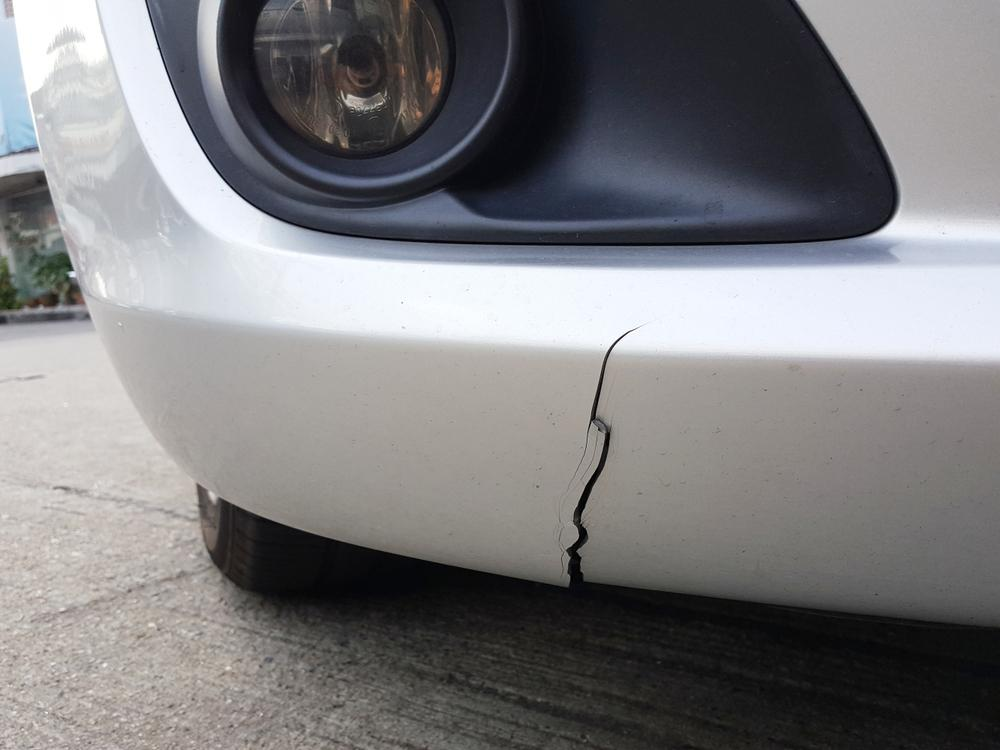crack: (566, 321, 651, 586)
